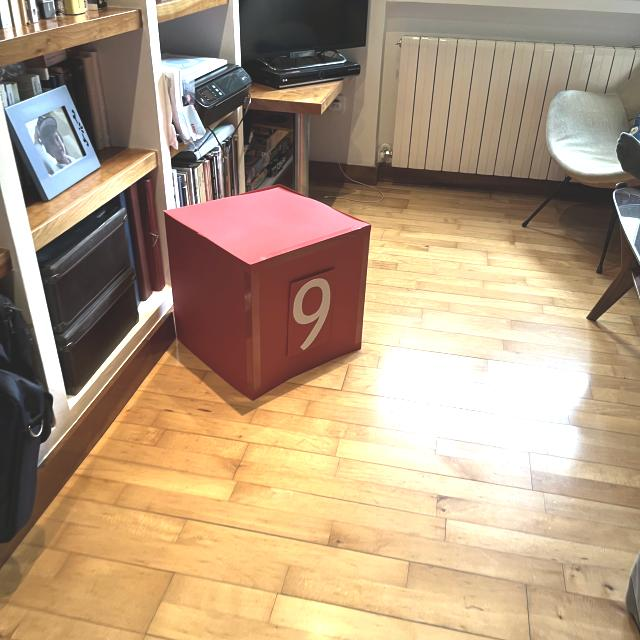box: (161, 182, 373, 401)
